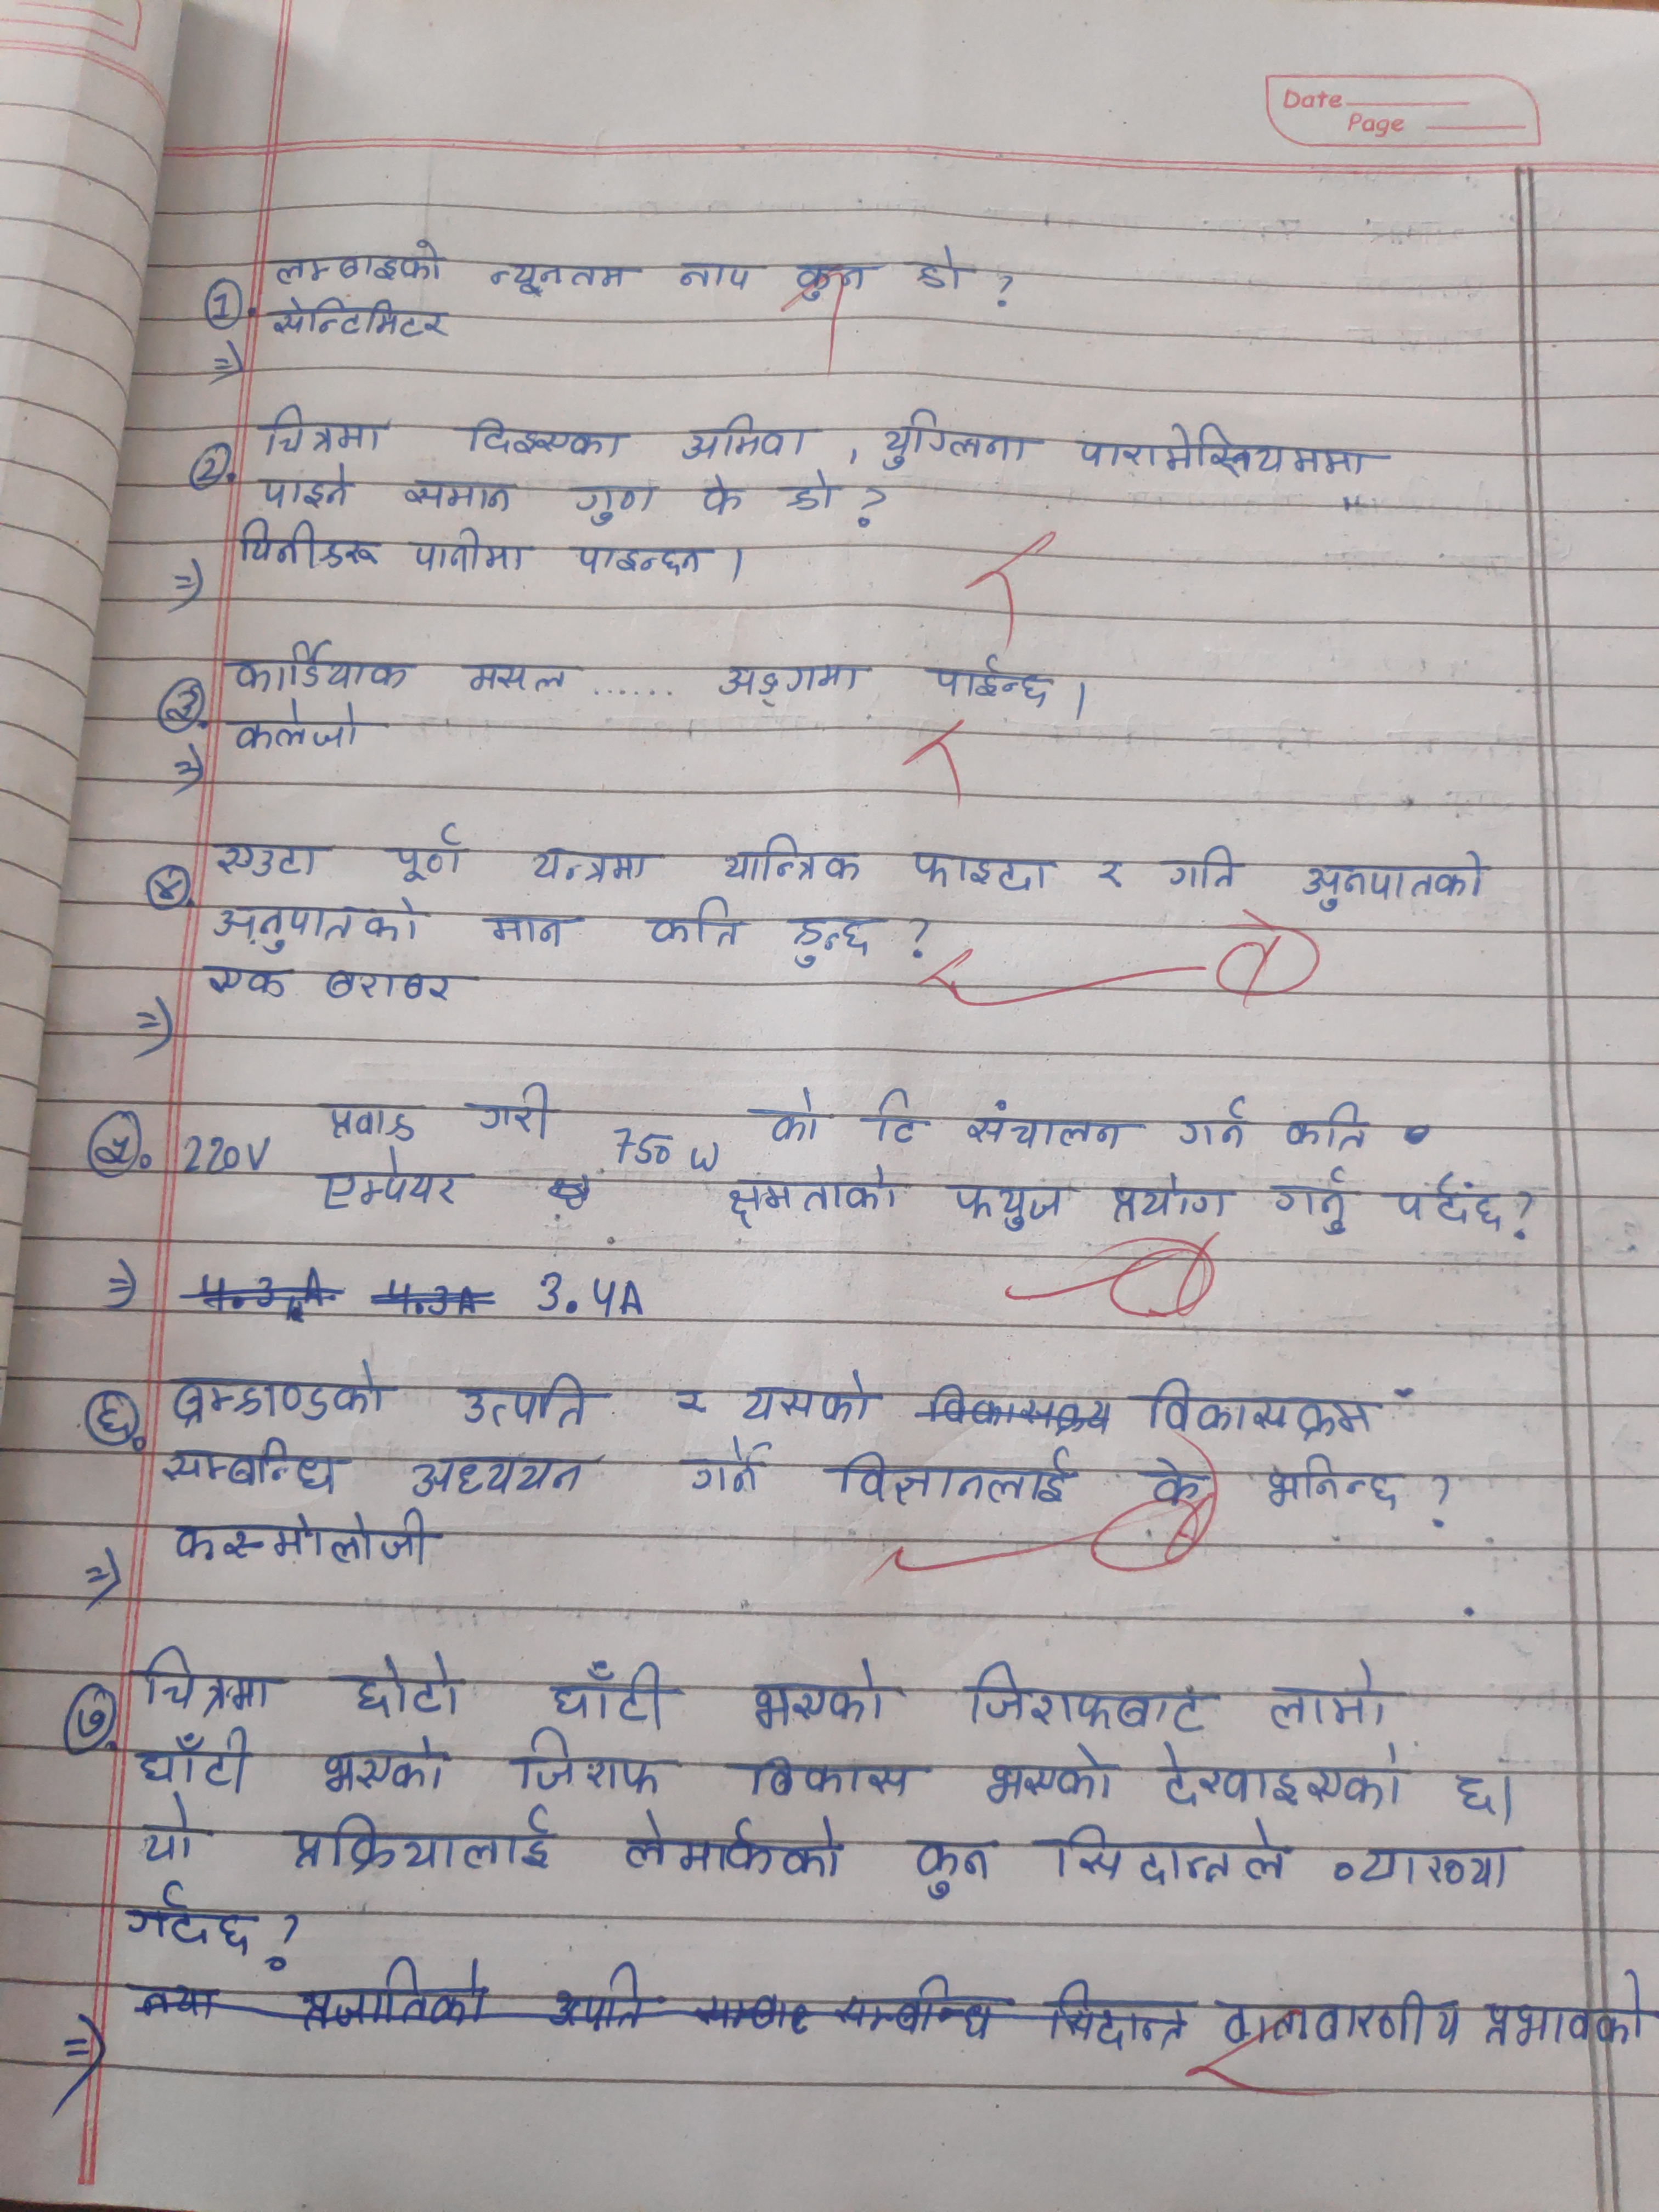text: (964, 1656, 1223, 1743), (1140, 1737, 1419, 1813), (286, 1806, 566, 1879), (1068, 420, 1385, 482), (1218, 1982, 1467, 2060), (833, 1439, 1080, 1512), (622, 1801, 847, 1881), (171, 1507, 443, 1573), (1042, 1820, 1297, 1888), (1476, 1966, 1656, 2062), (1140, 1374, 1380, 1442), (164, 1360, 387, 1432), (709, 1160, 913, 1231), (207, 895, 432, 954), (1300, 846, 1492, 911), (159, 1439, 347, 1503), (509, 1728, 676, 1799), (136, 1642, 291, 1717), (113, 1881, 263, 1958), (735, 1743, 924, 1804), (748, 1656, 889, 1735), (1324, 1841, 1527, 1895), (875, 404, 1037, 470), (404, 1449, 601, 1503), (270, 235, 451, 293), (308, 1150, 462, 1217), (312, 1733, 457, 1804), (962, 1099, 1141, 1155), (1262, 1449, 1405, 1517), (732, 1369, 885, 1432), (228, 637, 410, 690), (1265, 1662, 1394, 1735), (453, 1372, 603, 1435), (234, 514, 387, 575), (547, 1656, 678, 1726), (132, 1723, 260, 1792), (345, 1651, 469, 1723), (978, 1747, 1124, 1806), (1103, 1163, 1239, 1224), (906, 845, 1054, 900), (950, 1172, 1080, 1233), (1389, 1174, 1514, 1237), (723, 834, 866, 888), (709, 662, 871, 709), (920, 651, 1056, 707), (483, 251, 638, 300), (258, 401, 382, 462), (457, 416, 629, 458), (406, 523, 537, 575), (568, 536, 713, 583), (1270, 1163, 1359, 1238), (901, 1841, 1007, 1902), (312, 961, 455, 1007), (228, 704, 364, 751), (673, 413, 812, 458), (786, 909, 889, 970), (319, 1094, 429, 1150), (645, 900, 756, 954), (528, 846, 666, 890), (685, 1440, 775, 1500), (218, 834, 317, 888), (387, 824, 474, 883), (467, 1085, 559, 1141), (394, 474, 516, 516), (566, 479, 669, 528), (481, 904, 587, 951), (138, 1797, 211, 1865), (1173, 1094, 1256, 1153), (1288, 1097, 1373, 1153), (788, 251, 875, 305), (462, 653, 577, 693), (256, 465, 354, 512), (1161, 840, 1246, 892), (765, 1087, 830, 1151), (868, 1087, 931, 1153), (1143, 1453, 1213, 1510), (666, 256, 769, 294), (202, 961, 298, 1001), (915, 239, 969, 296), (784, 465, 840, 516), (695, 469, 742, 524), (1450, 1763, 1497, 1818), (664, 1381, 716, 1426), (1091, 853, 1129, 904)
